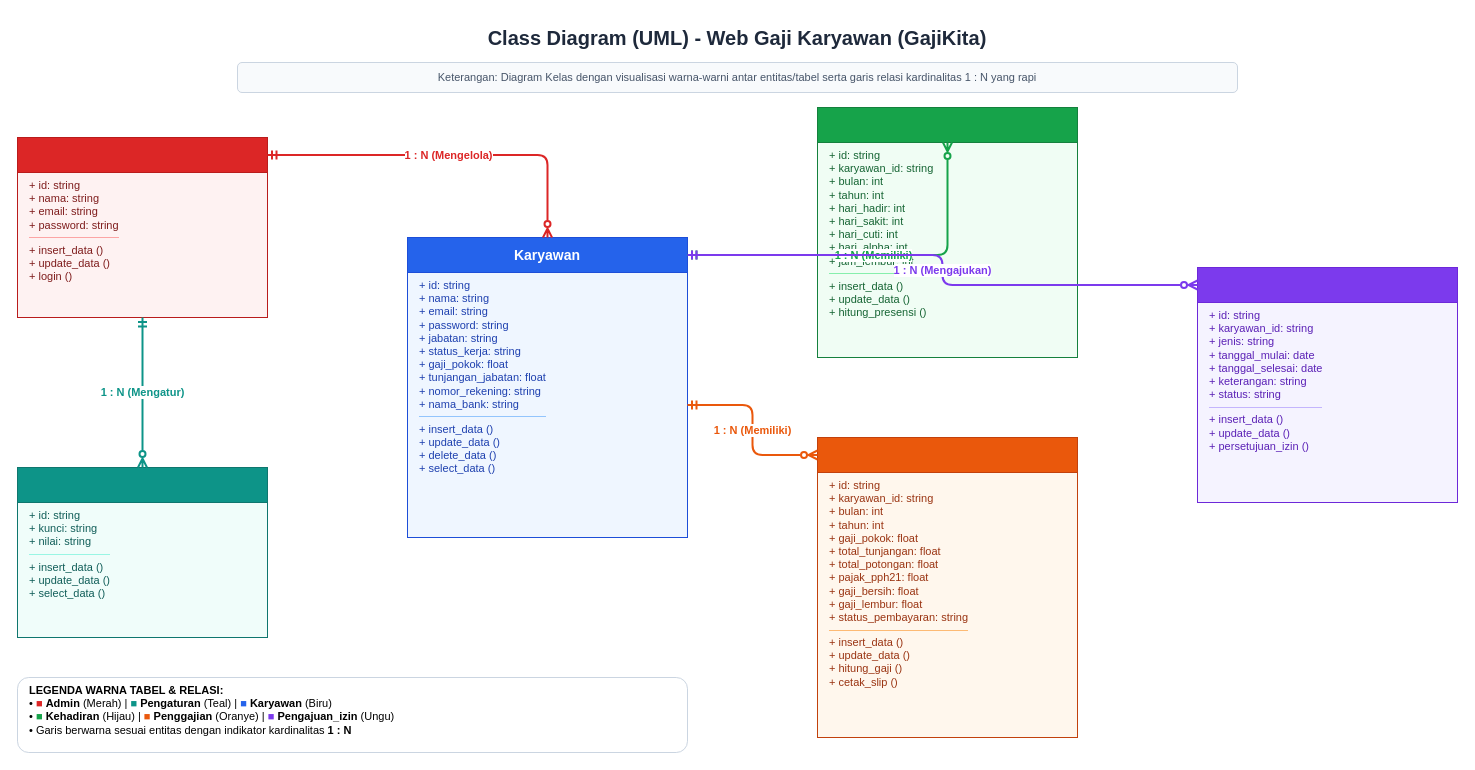
Some shapes in this 1475 by 770 pixel diagram are drawn without their labels. The centre of each missing label's shape, as x and y in pixels:
"Admin" belongs at (x=142, y=154).
"Kehadiran" belongs at (x=947, y=124).
"Pengajuan_izin" belongs at (x=1327, y=284).
"Pengaturan" belongs at (x=142, y=484).
"Penggajian" belongs at (x=947, y=454).
